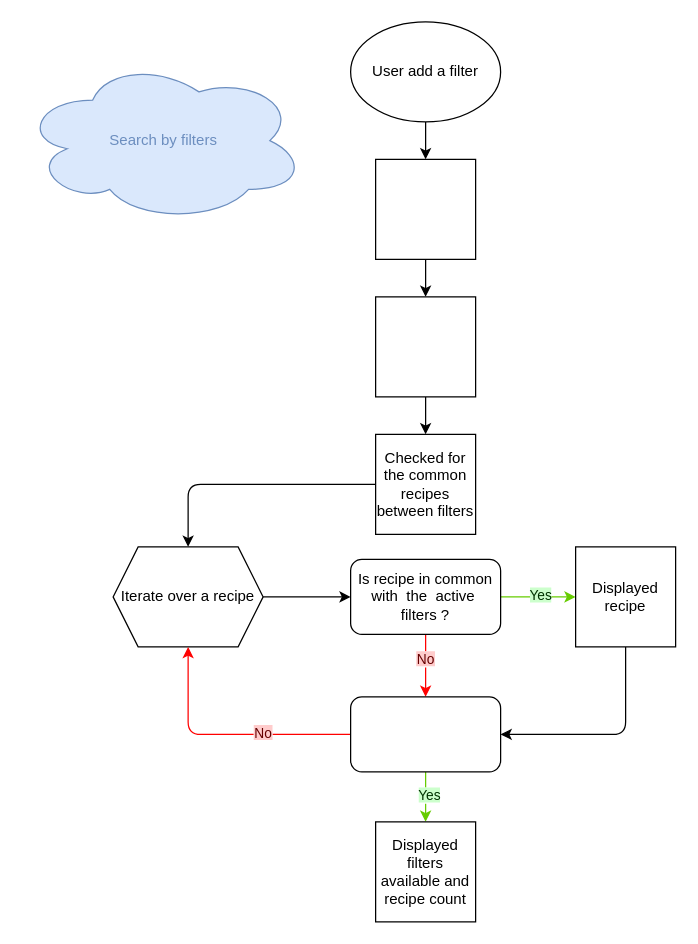
Some shapes in this 698 by 944 pixel diagram are drawn without their labels. The centre of each missing label's shape, as x and y in pixels:
"Added filter to active filters list" belongs at (425,208).
"Erased all the recipes display" belongs at (425,346).
"Is array finished ?" belongs at (425,734).
